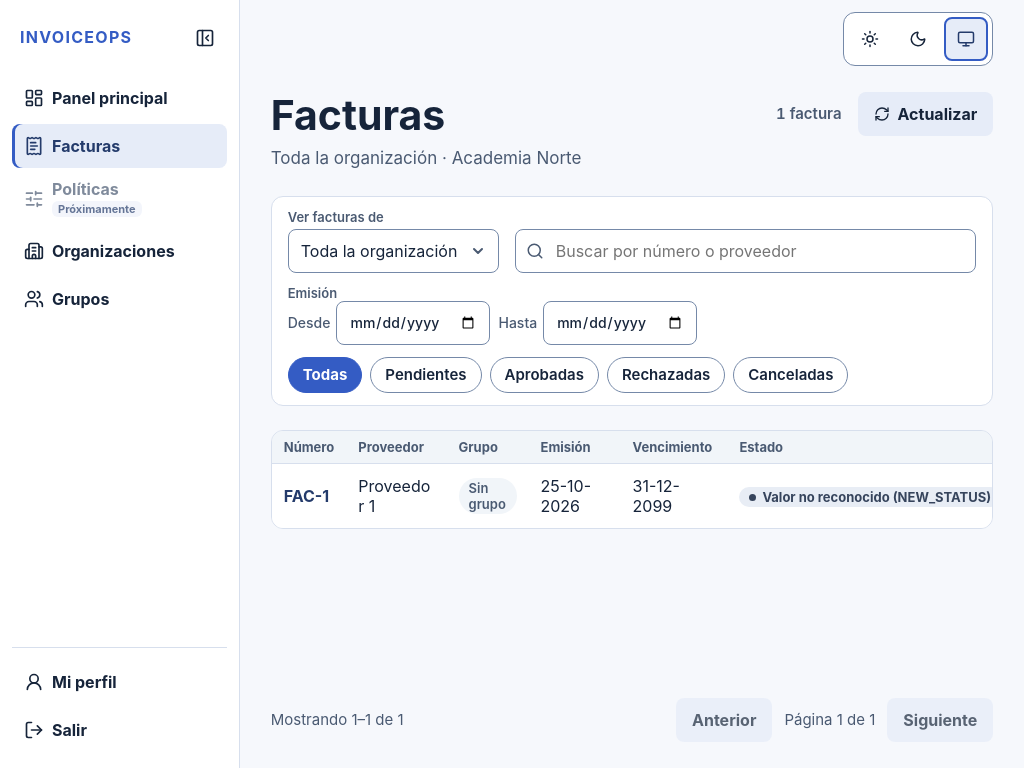
APP12 S3 invoice presentation HTTP boundary › uses an explicit Spanish fallback for unknown status codes
This screenshot has width=1024, height=768.
Expected: the heading "Facturas" is shown, [271,90,445,140]
Expected: the text "Valor no reconocido (NEW_STATUS)" is shown, [739,487,993,507]
Click the link "FAC-1" at (306, 496), box [284,486,329,506]
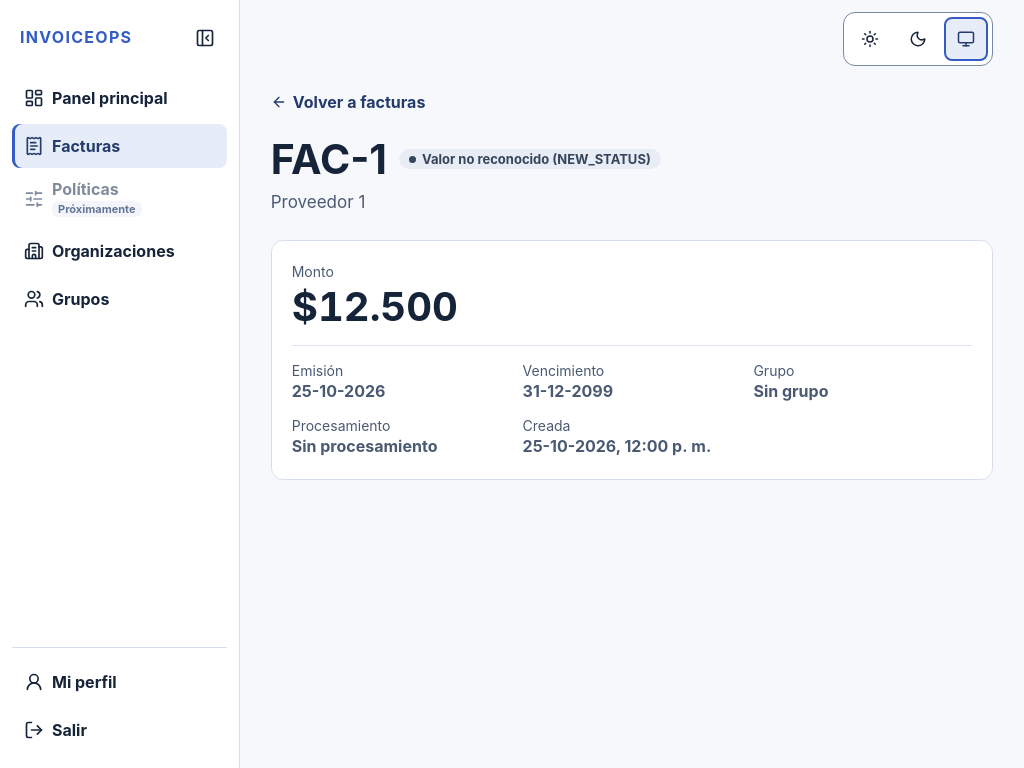
Expected: the text "Valor no reconocido (NEW_STATUS)" is shown, [399,149,661,169]
Expected: the heading "FAC-1" is shown, [271,136,387,183]
